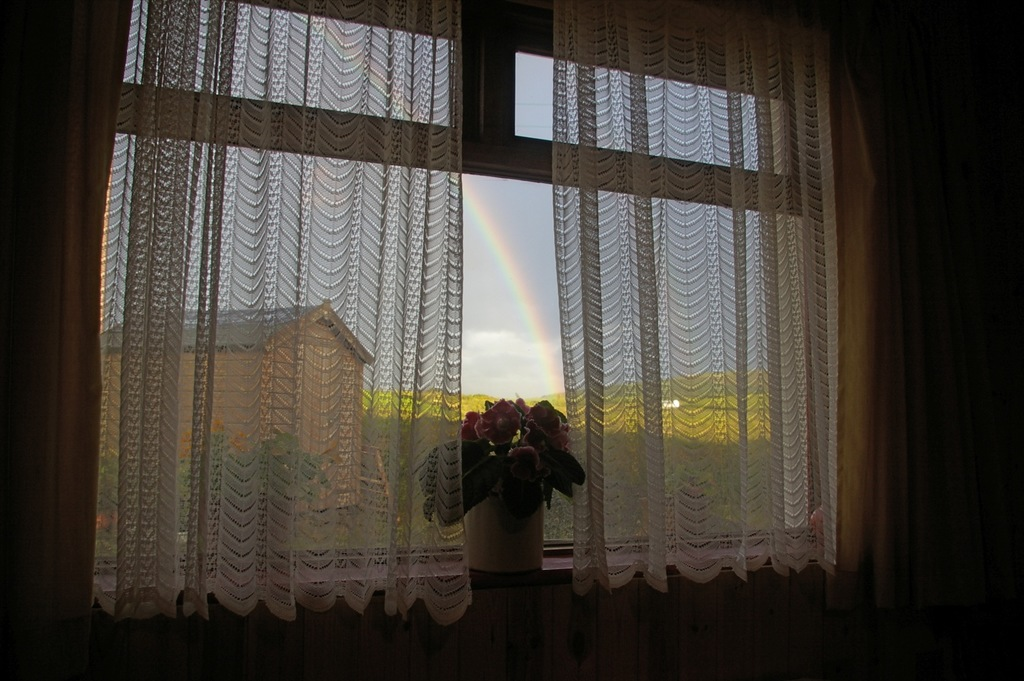Tree: (88, 375, 773, 552)
